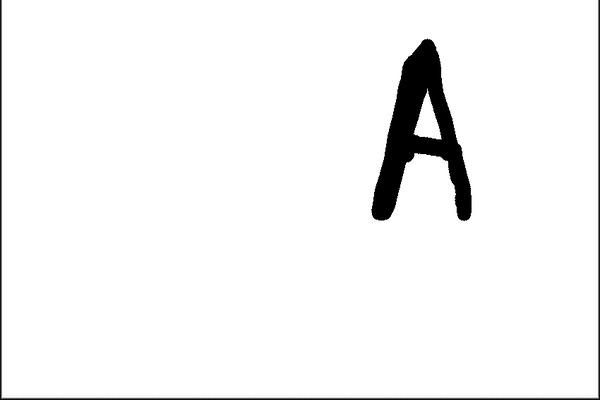A: (366, 35, 474, 230)
